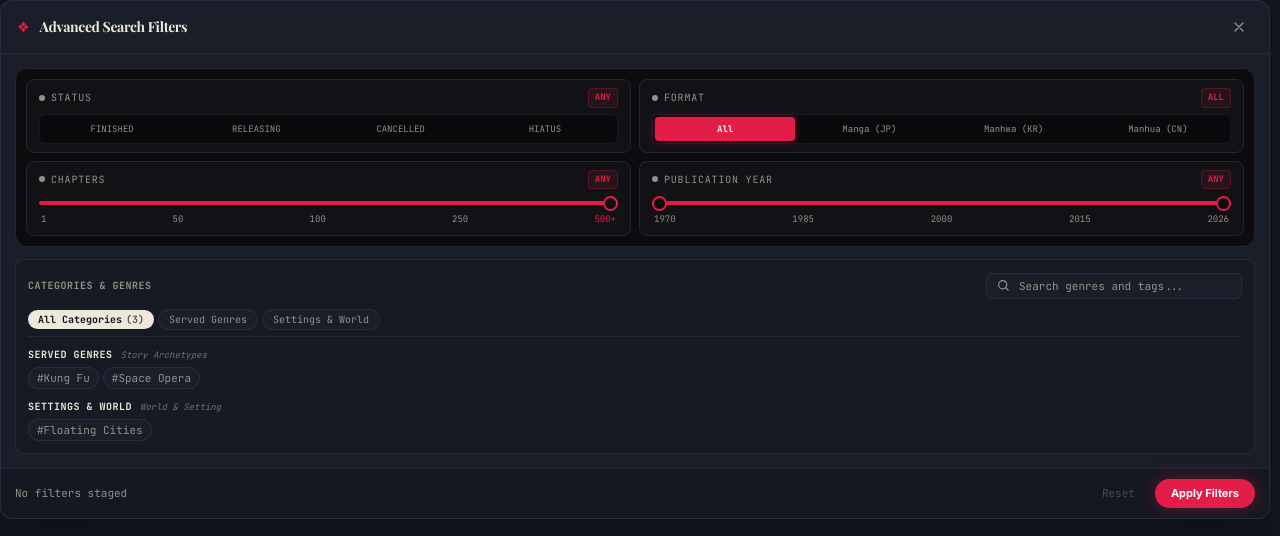
Test: chapter length is a ceiling on a fixed ladder › lets the tick row pick a stop and states the ceiling in the card badge
Click the button "250": point(460, 220) [450,213,470,226]
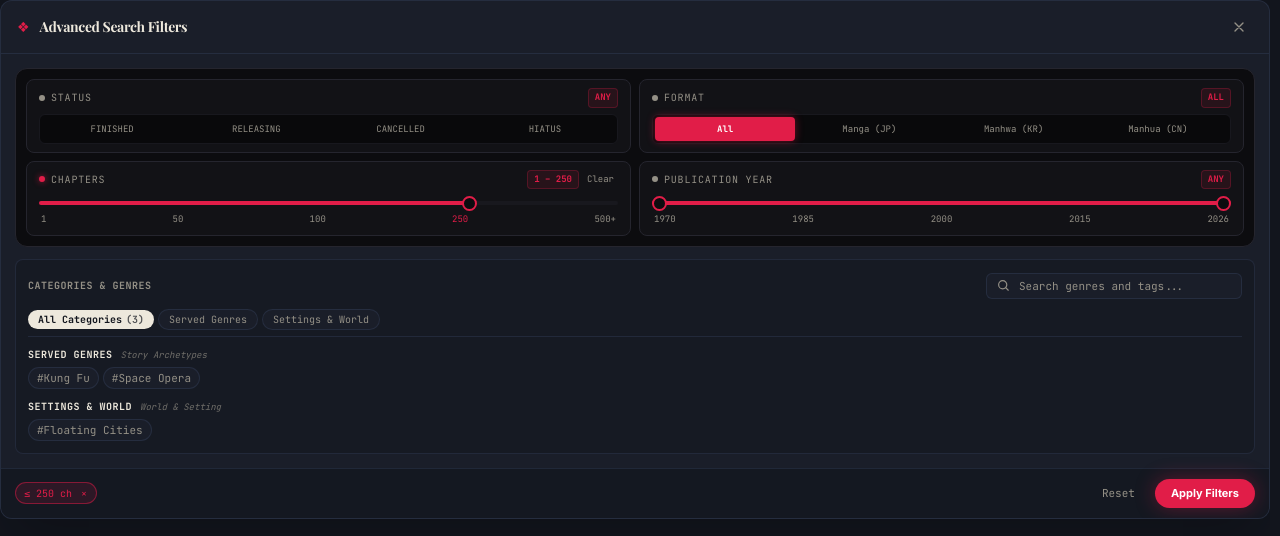
Expected: the text "1 – 250" is shown, [527,170,579,189]
Expected: the message shows "≤ 250 ch", [24,487,72,500]
